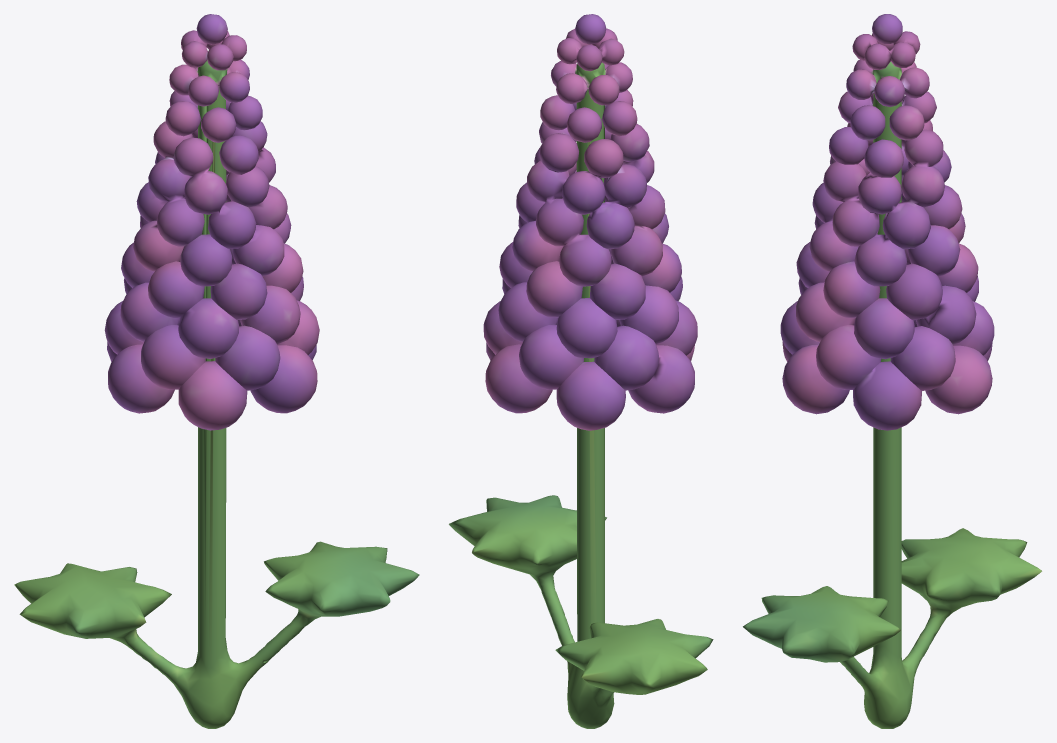
File: flower4.glb
3 views of the same model, side by side, from view 1: azimuth 30°, elevation 25°; view 2: azimuth 150°, elevation 25°; view 3: azimuth 270°, elevation 25° (orthographic).
Visible parts, largest first — view 1: body; view 2: body; view 3: body.
Part boxes in pixels (<box>): body: <box>14,14,419,728</box>; body: <box>449,14,713,728</box>; body: <box>743,14,1041,728</box>.
Size of the model in its own units: 0.3357 by 0.7288 by 0.2779.
